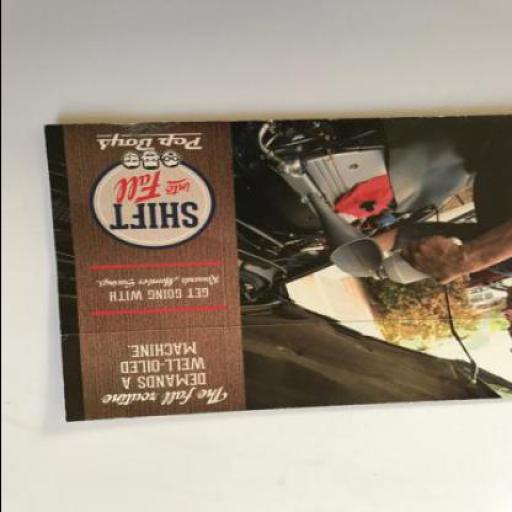paper: (40, 114, 510, 424)
